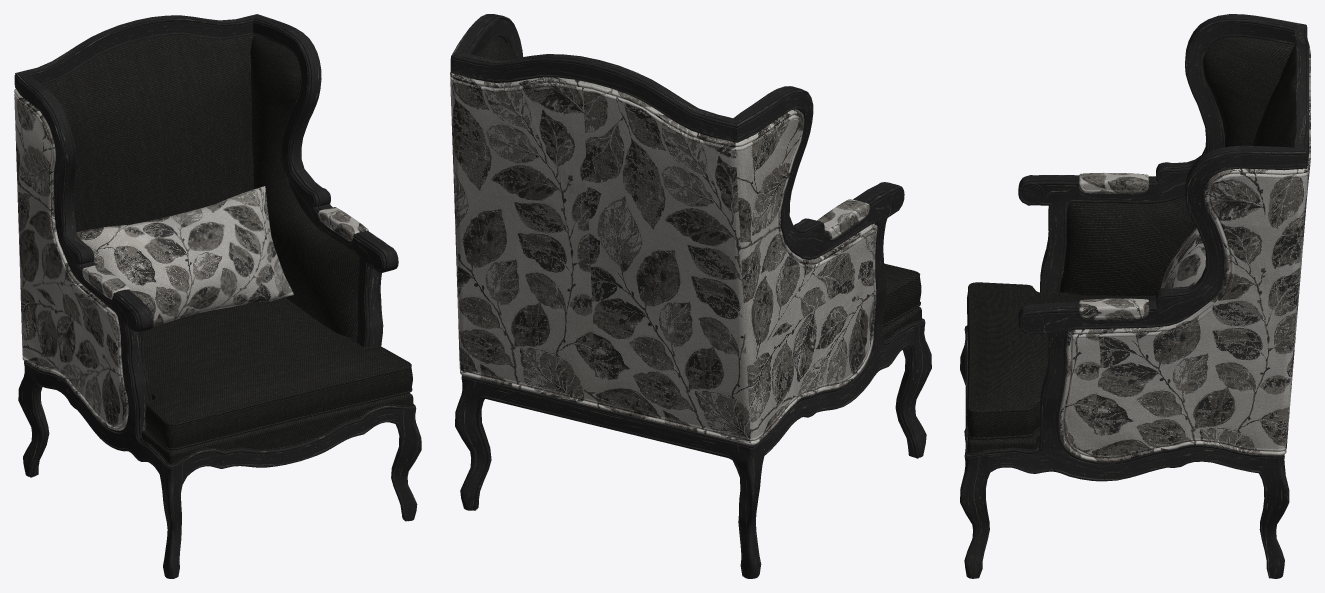
Rendered from example95.gltf.
3 renders of one model, left to right at view 1: azimuth 30°, elevation 25°; view 2: azimuth 150°, elevation 25°; view 3: azimuth 270°, elevation 25°, orthographic. The views are drawn at different scales.
Bounding box in the file's own units: 3.06 × 4.53 × 3.2.
Materials: 4 (3 with a texture image).
